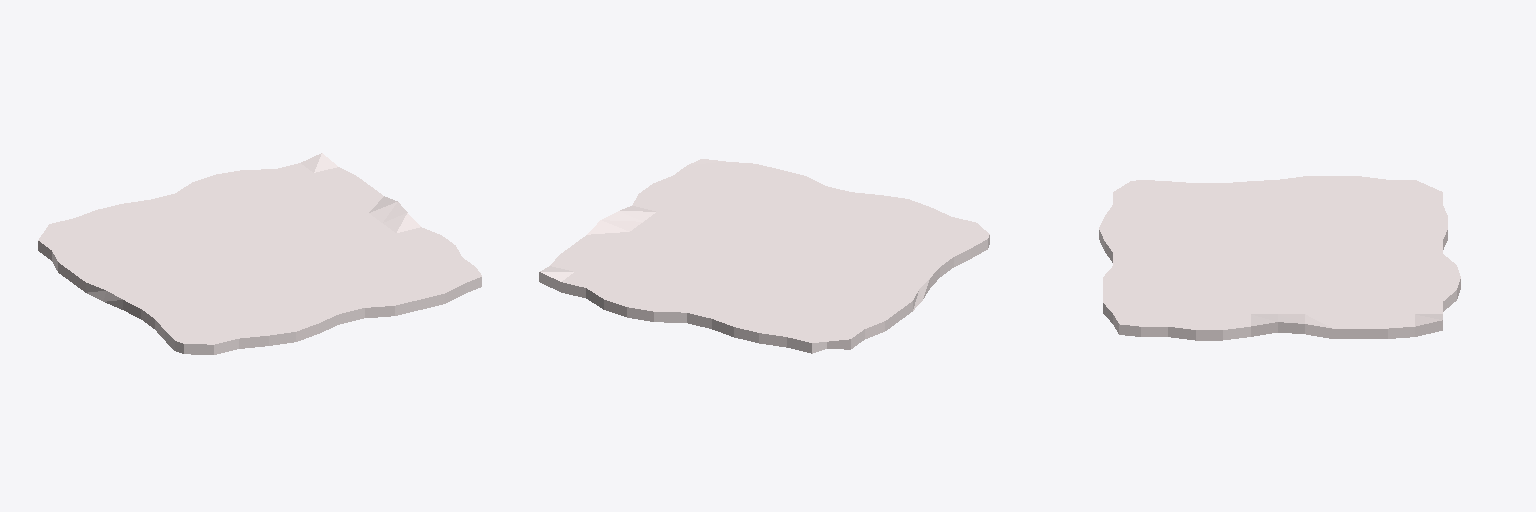
Rendered from ice.obj.
3 views of the same model, side by side, from view 1: azimuth 30°, elevation 25°; view 2: azimuth 150°, elevation 25°; view 3: azimuth 270°, elevation 25° (orthographic).
Visible parts, largest first — view 1: pasted__pCube4 group; view 2: pasted__pCube4 group; view 3: pasted__pCube4 group.
Boxes of the visible parts, <box> form: pasted__pCube4 group: <box>38,153,481,354</box>; pasted__pCube4 group: <box>539,159,989,353</box>; pasted__pCube4 group: <box>1099,176,1460,340</box>.
Bounding box in the file's own units: 6.82 × 0.315 × 6.79.